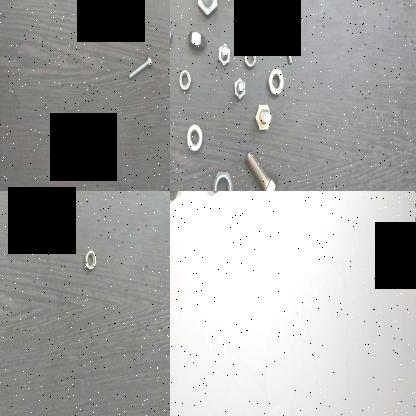Bolts: (241, 150, 278, 191), (279, 20, 299, 68), (127, 52, 156, 82), (254, 100, 274, 136), (195, 0, 225, 22), (108, 0, 149, 13), (232, 74, 248, 104), (217, 40, 232, 67), (252, 0, 264, 21)
NUTS: (186, 119, 205, 158), (268, 64, 288, 98), (37, 191, 56, 223), (211, 166, 234, 191), (187, 30, 207, 56), (176, 66, 193, 95), (83, 244, 99, 274), (244, 46, 258, 72)
